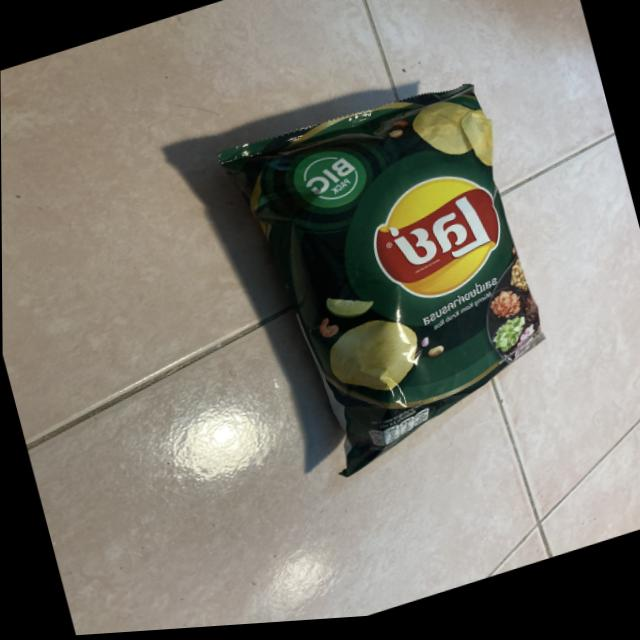Laygreen: (178, 37, 582, 517)
